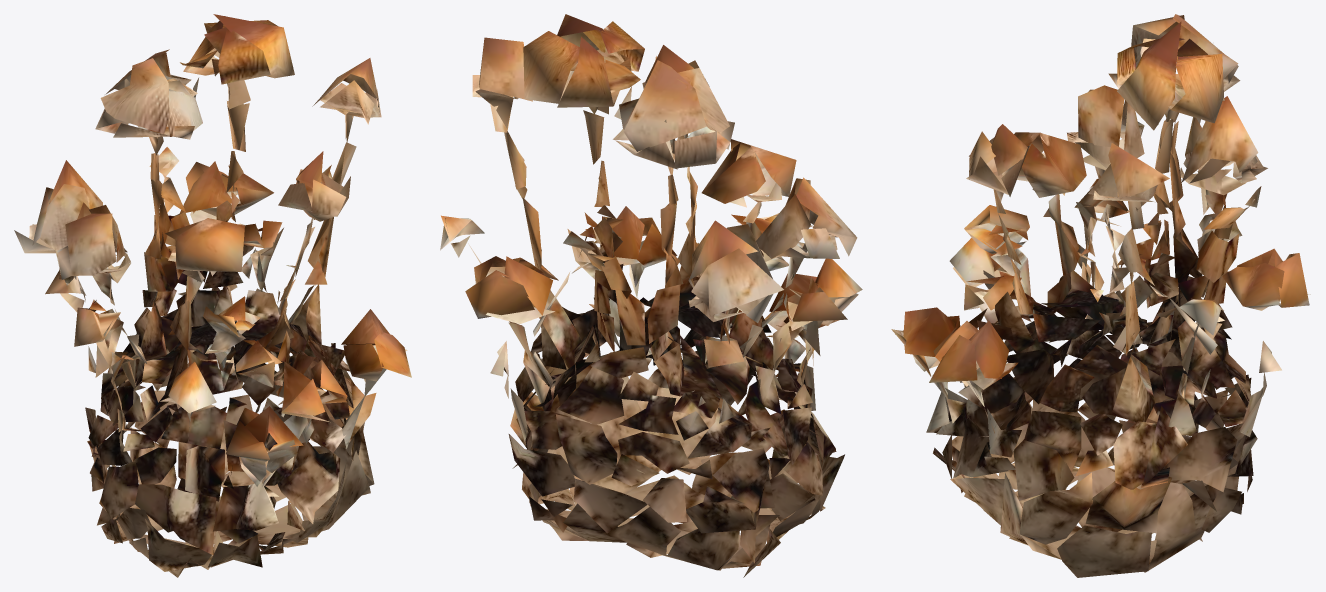
Rendered from mushrooms.glb.
3 renders of one model, left to right at view 1: azimuth 30°, elevation 25°; view 2: azimuth 150°, elevation 25°; view 3: azimuth 270°, elevation 25°, orthographic. The views are drawn at different scales.
Parts seen in each view (by area): view 1: Mesh_0; view 2: Mesh_0; view 3: Mesh_0.
Boxes of the visible parts, x1=… form: Mesh_0: x1=14, y1=14, x2=411, y2=577; Mesh_0: x1=440, y1=14, x2=862, y2=577; Mesh_0: x1=891, y1=14, x2=1310, y2=577.
Bounding box in the file's own units: 0.2497 × 0.3529 × 0.2557.
Materials: 1 (1 with a texture image).
